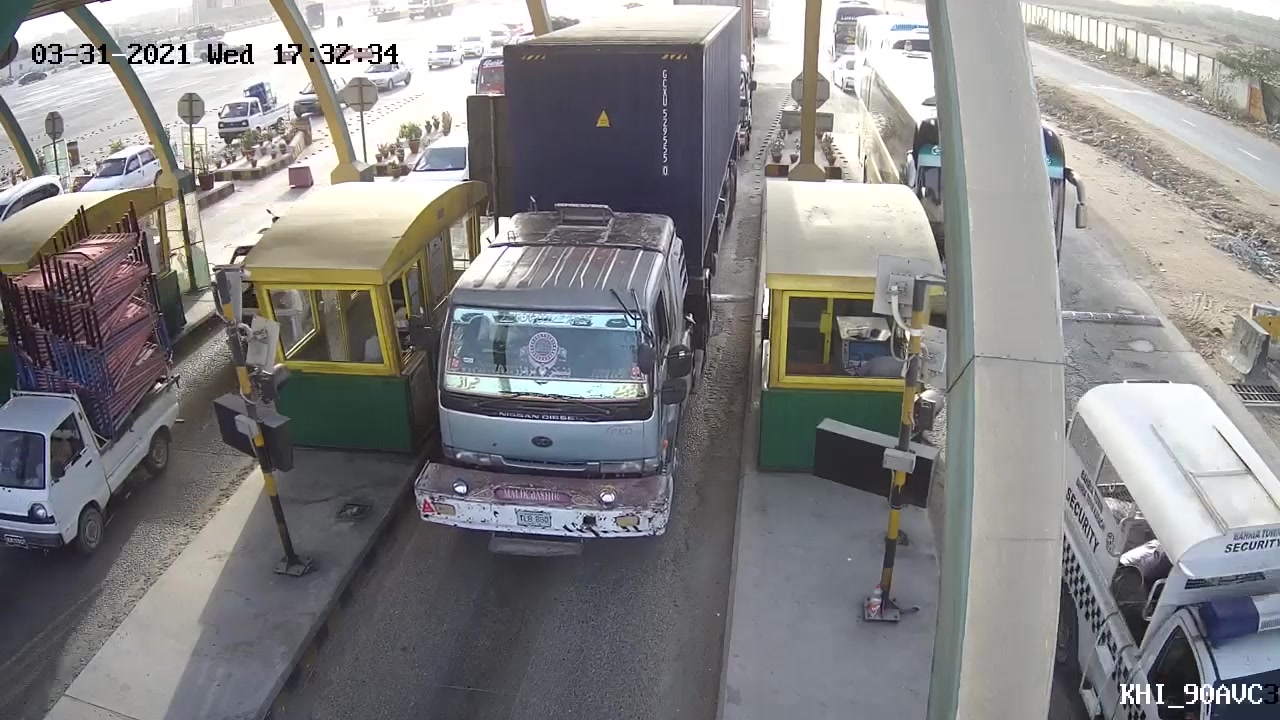F6: (407, 1, 758, 582)
